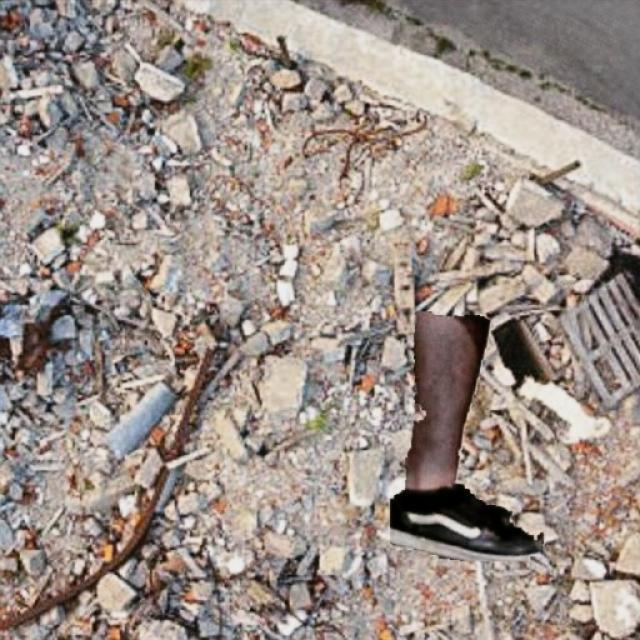Person in Rubble: (390, 311, 542, 560)
